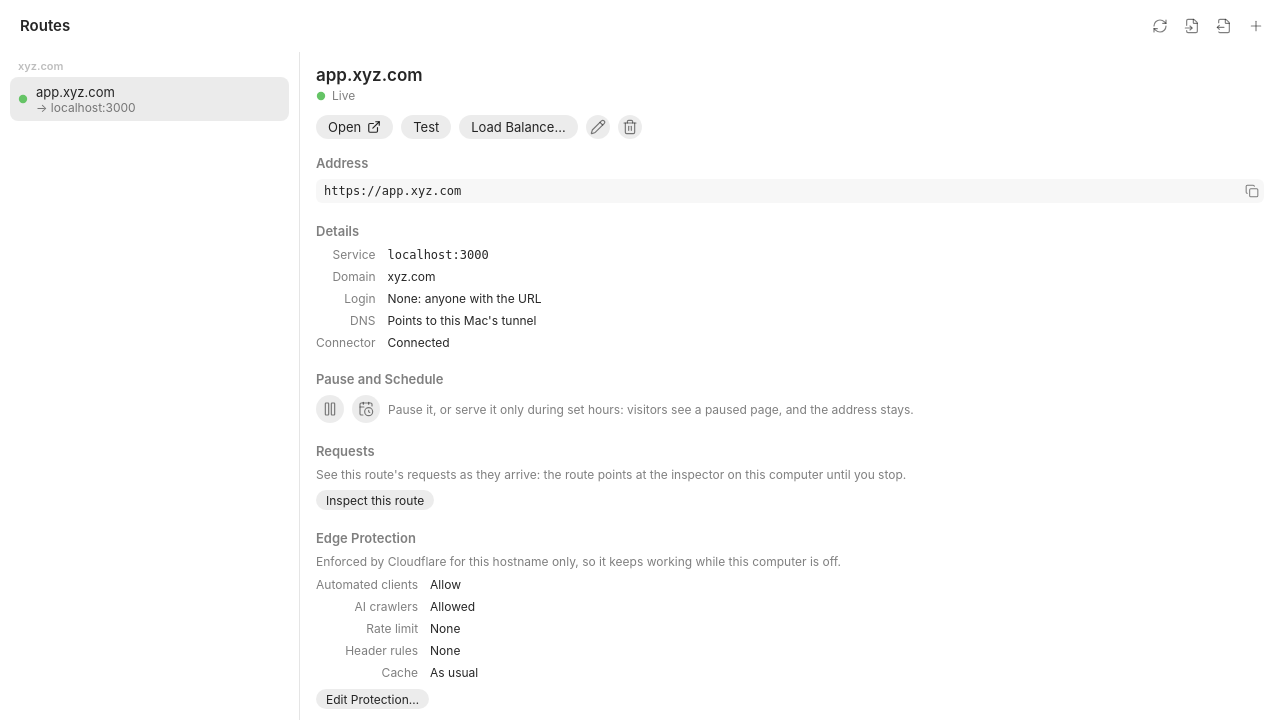
Test: RoutesPage › fixes a route whose dev server refuses its address through a plan
Expected: the option "app.xyz.com → localhost:3000" is shown, top-left (10, 77), bottom-right (289, 121)
Click the button "Test" at x=426, y=127, box top-left (401, 115), bottom-right (451, 139)
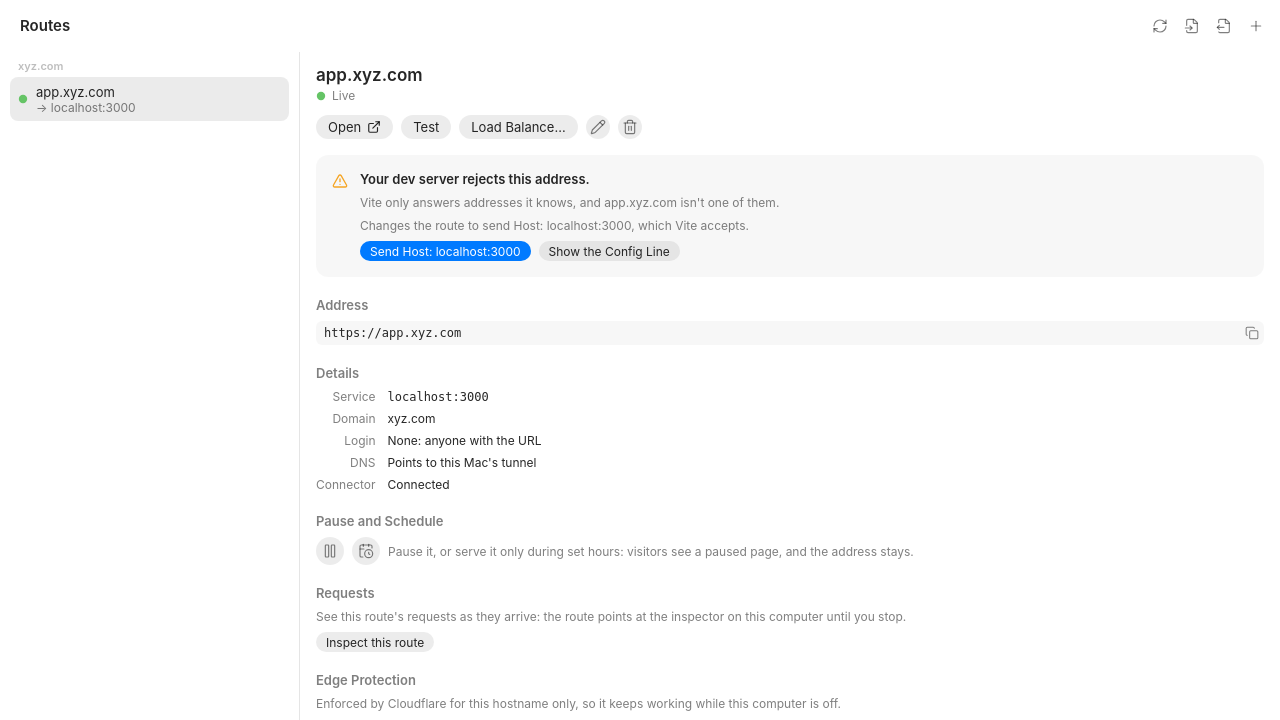
Expected: the text "Changes the route to send Host: localhost:3000" is shown, top-left (360, 218), bottom-right (749, 233)
Click the button "Send Host: localhost:3000" at x=445, y=251, box top-left (360, 241), bottom-right (531, 261)
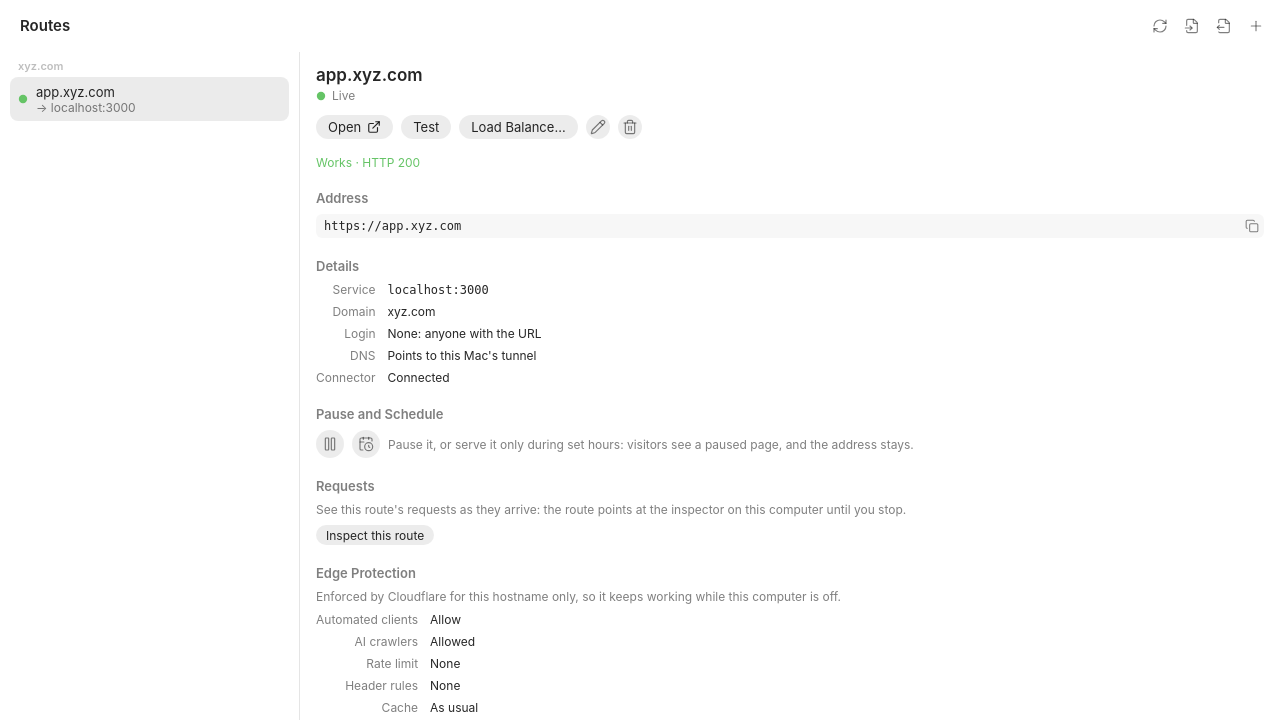
Expected: the heading "rejects this address" is gone
